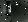person: (4, 2, 11, 17)
